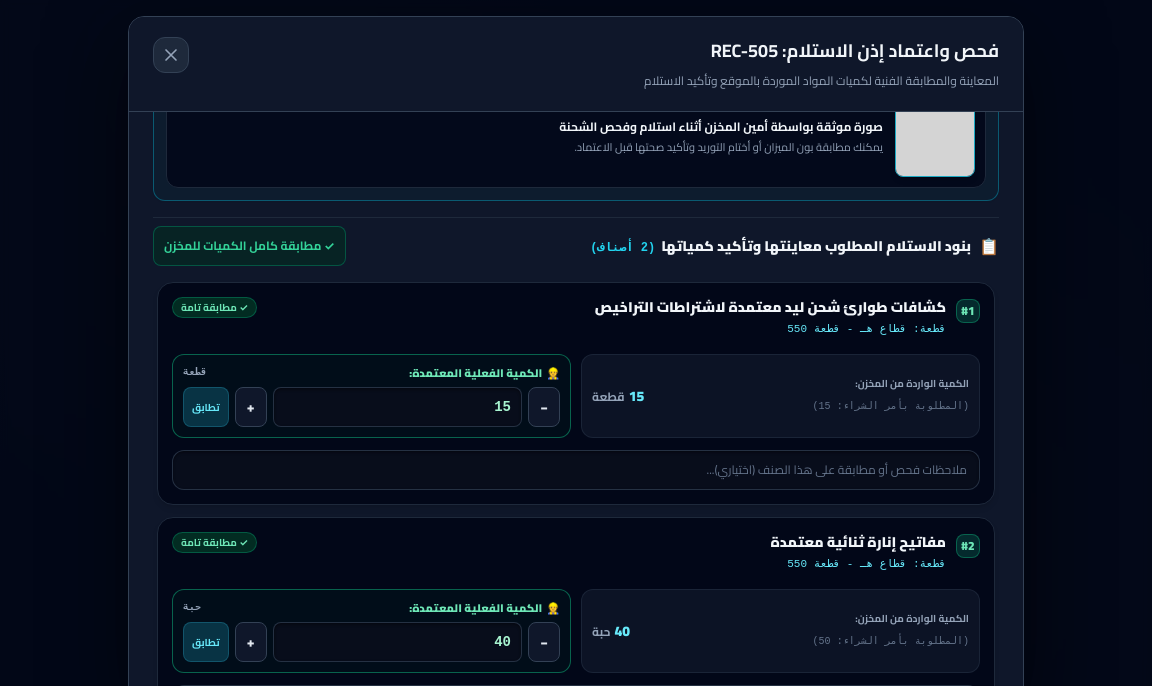
it: QuickReceiptInspectionModal Component › sets all quantities to warehouse quantities when clicking match button
(page scrolled)
Expected: the heading "كشافات طوارئ شحن ليد معتمدة لاشتراطات التراخيص" is shown, [595,297,946,317]
Replace the text in the 1st number field showing "15" with "10" at coordinates (397, 407), box [273,387,522,427]
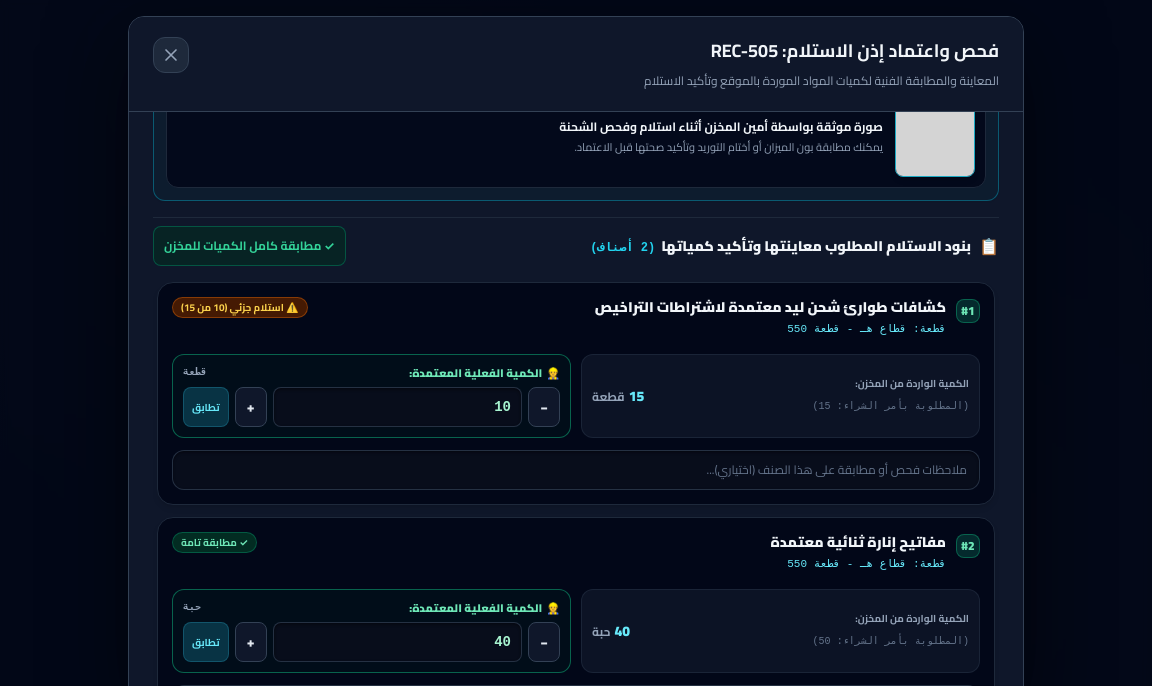
Click the button "✓ مطابقة كامل الكميات للمخزن" at coordinates (249, 246), box [153,226,346,266]
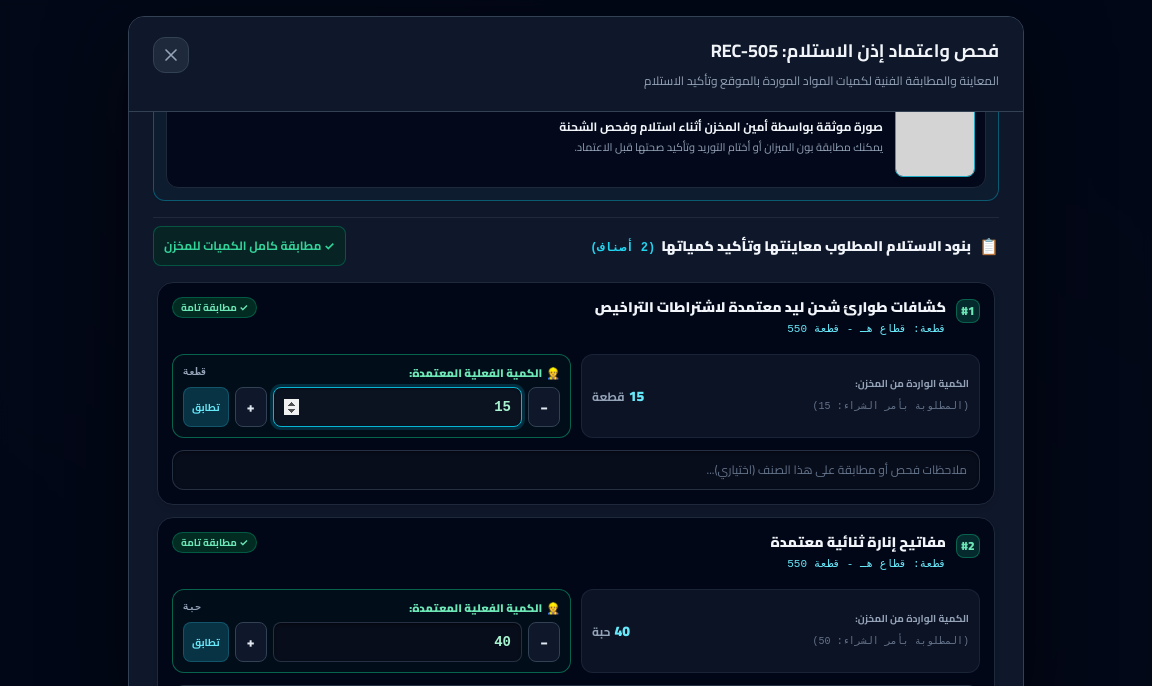
Result: the 1st number field showing "15" holds "15" at [273,387,522,427]
